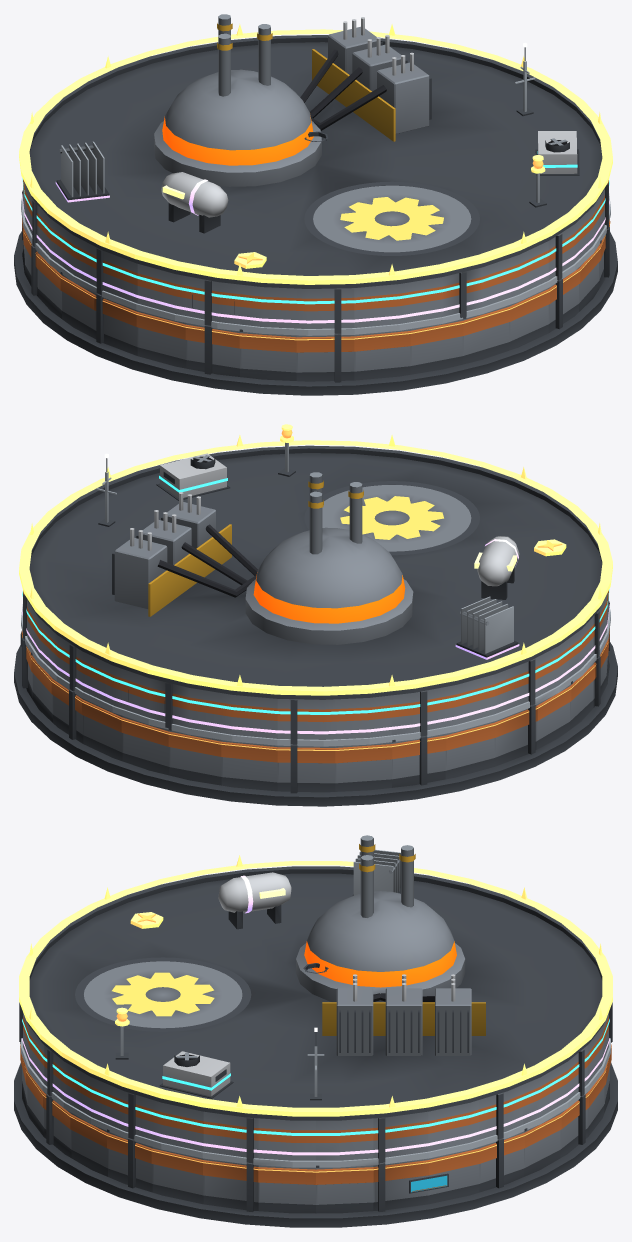
The model's file is titanium_smelter_m.glb.
The picture shows the model from 3 angles, top to bottom: view 1: azimuth 30°, elevation 25°; view 2: azimuth 150°, elevation 25°; view 3: azimuth 270°, elevation 25°; orthographic projection.
Visible parts, largest first — view 1: Roof, Base, L4, Wall_21, Wall_20, Wall_22, Wall_19, Wall_23, Wall_18, Wall_24, Upper_21, Upper_19 (+26 smaller); view 2: Roof, Base, L4, Wall_10, Wall_11, Wall_09, Wall_12, Wall_08, L3, Wall_13, Wall_07, Upper_10 (+27 smaller); view 3: Roof, Base, L4, Wall_00, Wall_31, Wall_30, L3, Wall_29, Wall_01, Wall_02, Wall_28, Wall_03 (+26 smaller).
Boxes of the visible parts, left/top/right/bottom form: Roof: left=24, top=14, right=605, bottom=288; Base: left=14, top=231, right=617, bottom=395; L4: left=55, top=141, right=228, bottom=233; Wall_21: left=296, top=333, right=354, bottom=382; Wall_20: left=239, top=329, right=296, bottom=380; Wall_22: left=354, top=329, right=410, bottom=380; Wall_19: left=185, top=323, right=239, bottom=376; Wall_23: left=410, top=319, right=463, bottom=374; Wall_18: left=136, top=310, right=186, bottom=368; Wall_24: left=462, top=305, right=510, bottom=364; Upper_21: left=297, top=288, right=354, bottom=333; Upper_19: left=186, top=276, right=240, bottom=325; Roof: left=26, top=445, right=602, bottom=699; Base: left=14, top=642, right=617, bottom=806; L4: left=455, top=536, right=519, bottom=659; Wall_10: left=277, top=744, right=335, bottom=793; Wall_11: left=335, top=742, right=392, bottom=791; Wall_09: left=221, top=740, right=277, bottom=791; Wall_12: left=392, top=734, right=446, bottom=787; Wall_08: left=168, top=728, right=221, bottom=785; L3: left=156, top=453, right=230, bottom=500; Wall_13: left=445, top=721, right=495, bottom=779; Wall_07: left=121, top=716, right=169, bottom=775; Upper_10: left=277, top=699, right=334, bottom=744; Roof: left=27, top=835, right=604, bottom=1120; Base: left=14, top=1062, right=617, bottom=1227; L4: left=218, top=849, right=400, bottom=929; Wall_00: left=316, top=1165, right=373, bottom=1213; Wall_31: left=258, top=1165, right=315, bottom=1213; Wall_30: left=203, top=1158, right=258, bottom=1211; L3: left=159, top=963, right=328, bottom=1098; Wall_29: left=151, top=1147, right=203, bottom=1204; Wall_01: left=373, top=1158, right=428, bottom=1211; Wall_02: left=428, top=1147, right=480, bottom=1204; Wall_28: left=107, top=1129, right=152, bottom=1192; Wall_03: left=479, top=1131, right=524, bottom=1192.
Size of the model in its own units: 14.75 by 6.19 by 14.75.
